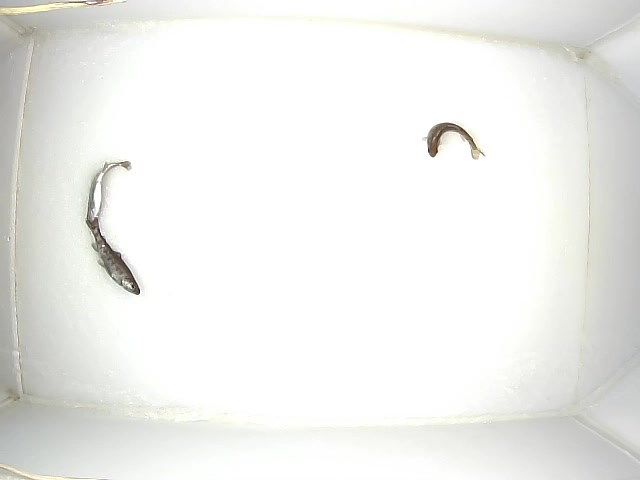fish: (85, 217, 140, 295), (87, 161, 131, 222), (422, 123, 486, 159)
